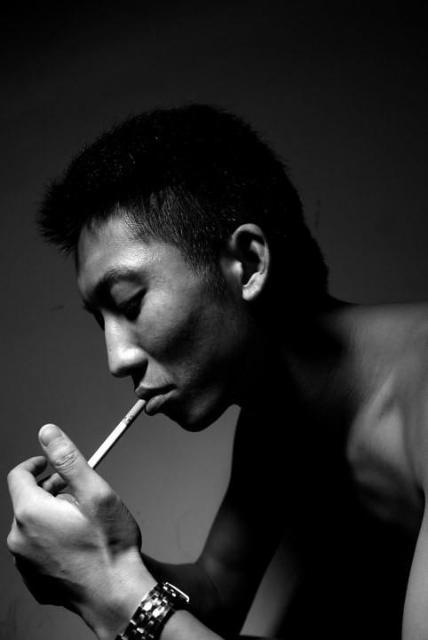Smoking: (91, 398, 144, 474)
